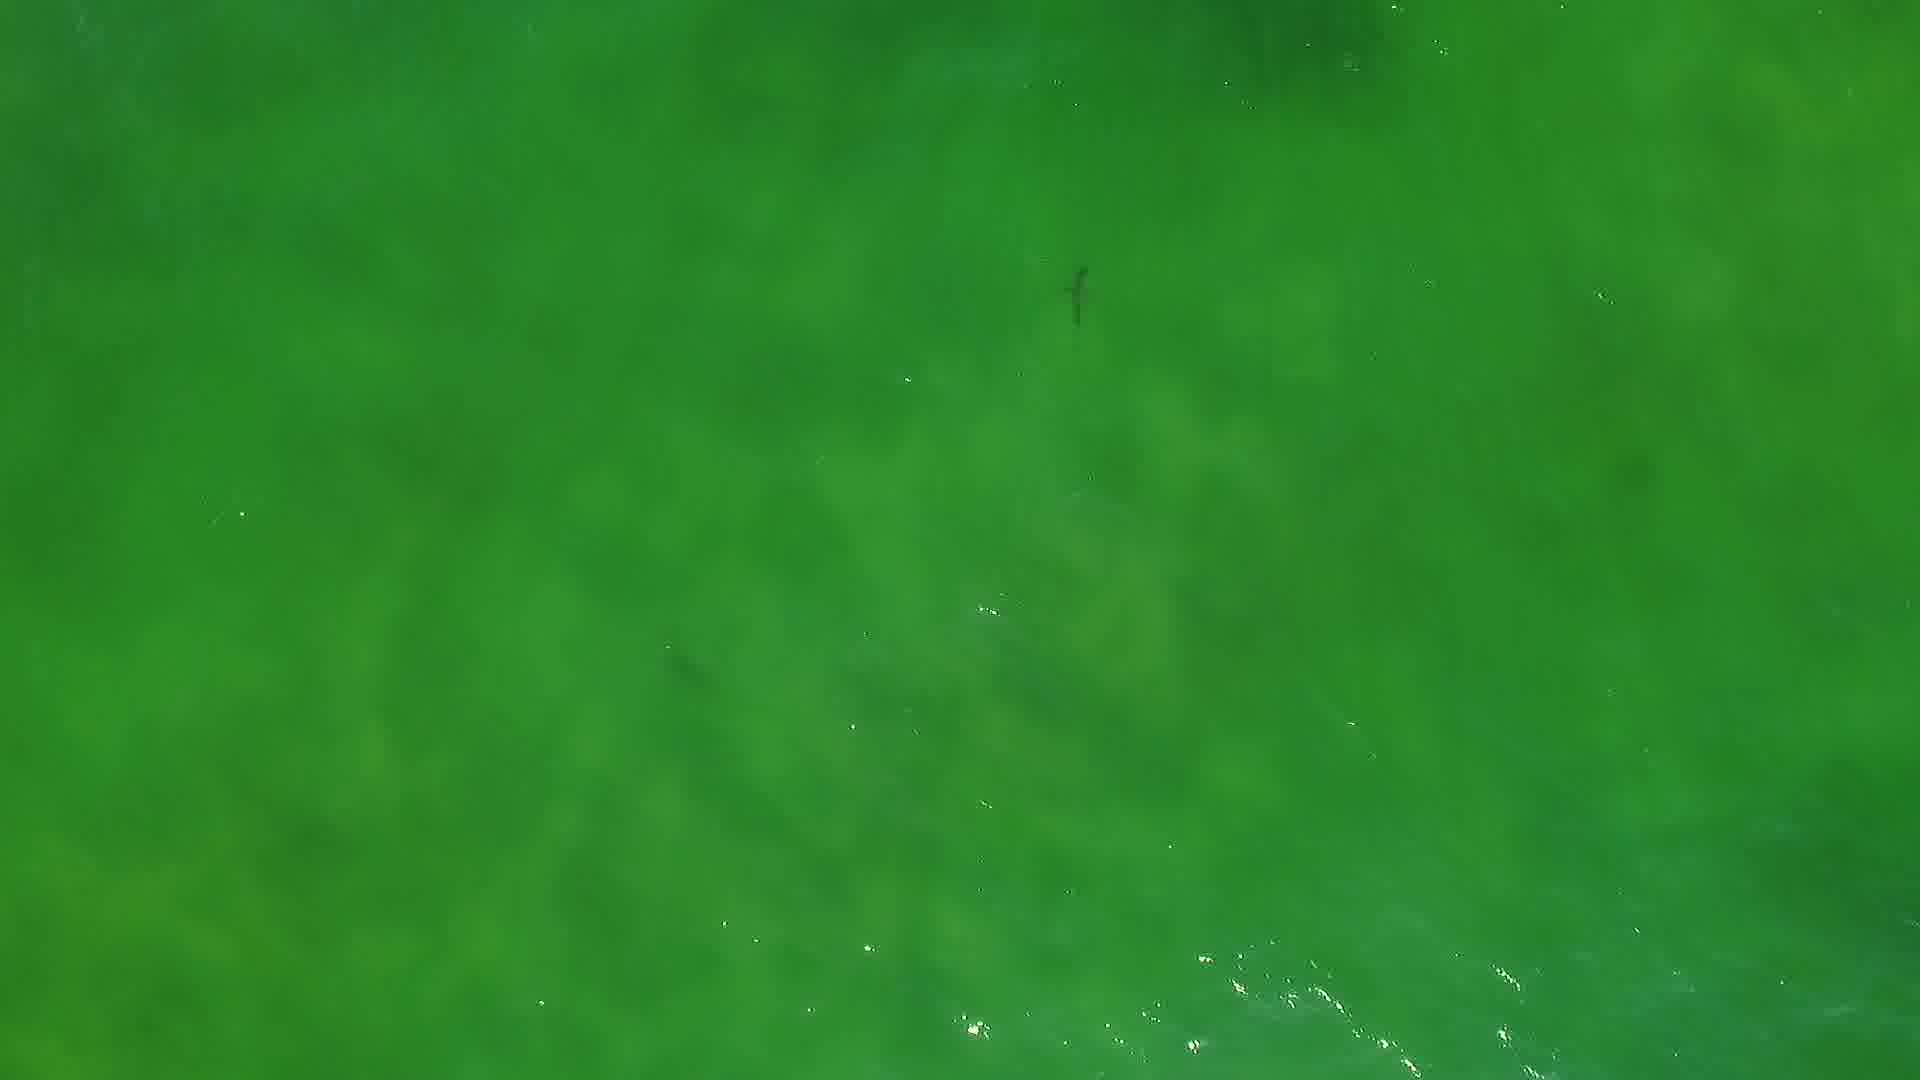shark: (1054, 261, 1102, 331)
